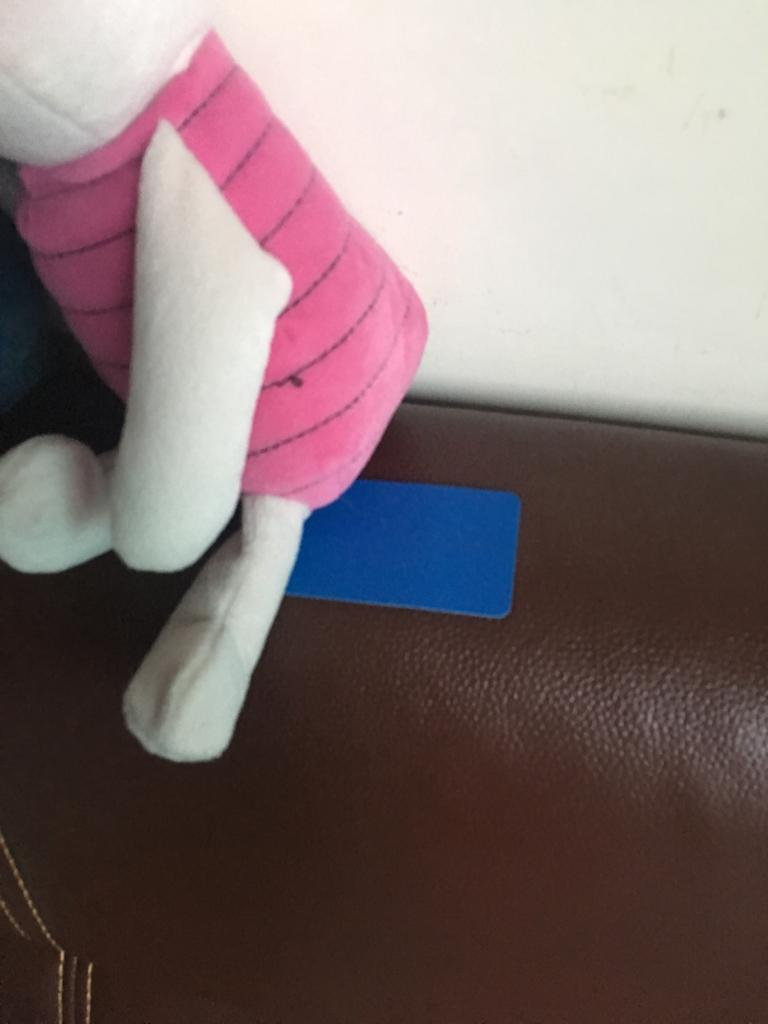blue: (238, 437, 548, 637)
